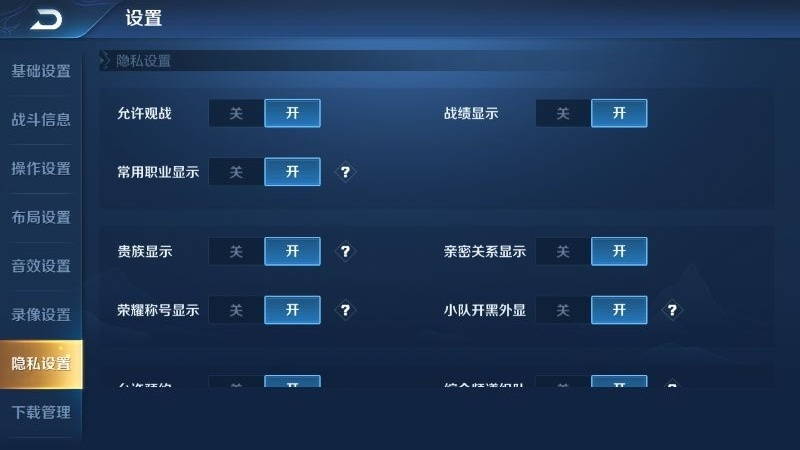return: (20, 2, 70, 36)
tag: (1, 290, 80, 332), (1, 245, 79, 279), (1, 198, 79, 230), (8, 151, 76, 186), (5, 103, 75, 135), (10, 55, 76, 83), (261, 96, 319, 126), (589, 294, 647, 324), (591, 96, 649, 125), (591, 238, 648, 265), (266, 235, 319, 262), (267, 158, 317, 184)
